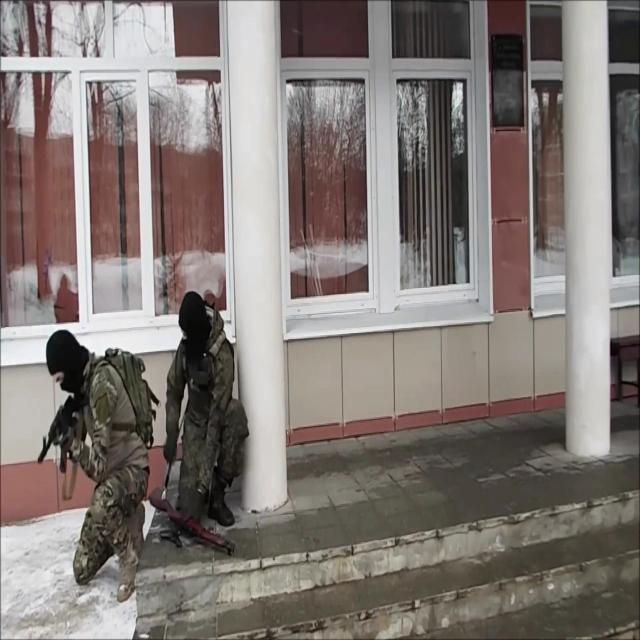gun: (38, 328, 156, 602), (149, 290, 250, 557), (149, 486, 236, 558), (37, 390, 84, 472), (159, 524, 184, 552)
